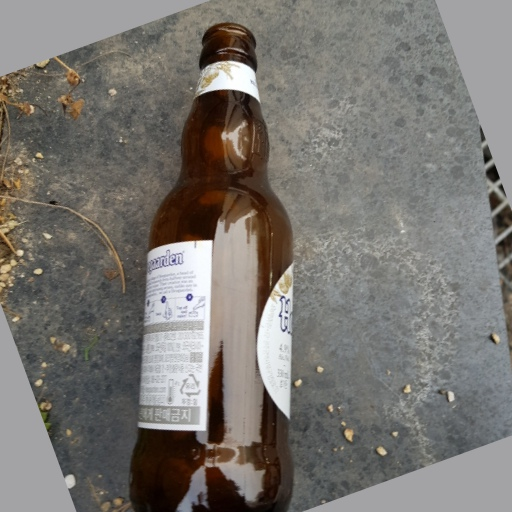Glass_1: (127, 25, 305, 512)
